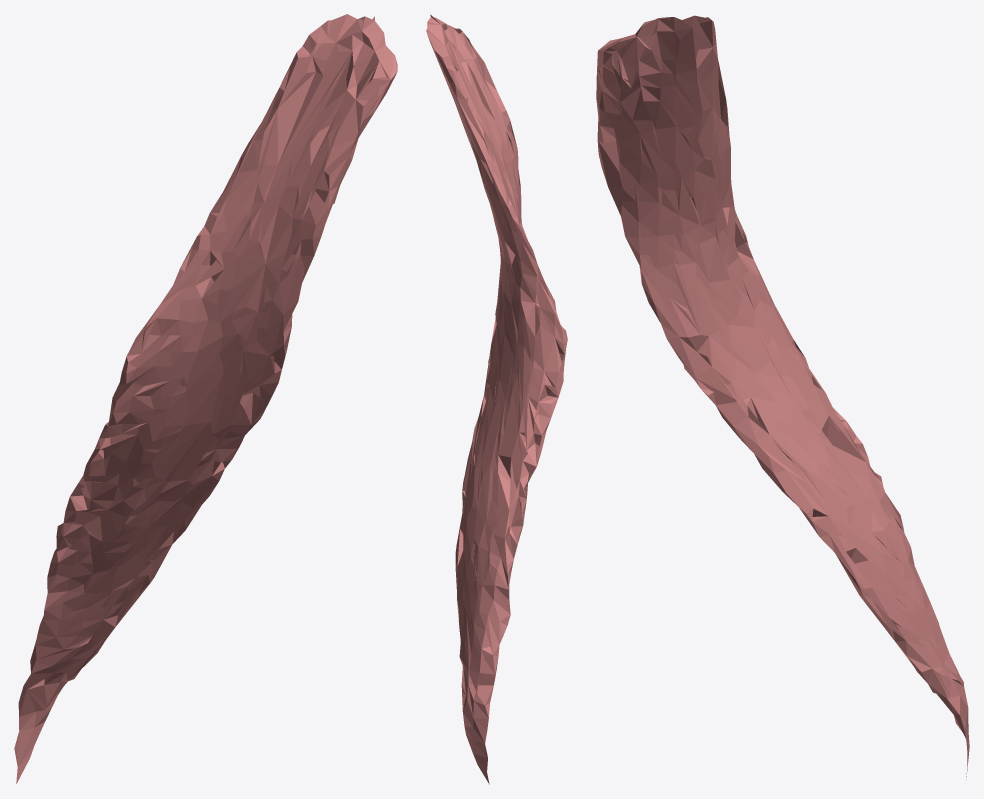
Rendered from Splenius_capitis_muscle.l.glb.
3 renders of one model, left to right at view 1: azimuth 30°, elevation 25°; view 2: azimuth 150°, elevation 25°; view 3: azimuth 270°, elevation 25°, orthographic. The views are drawn at different scales.
Parts seen in each view (by area): view 1: Splenius_capitis_muscle.l; view 2: Splenius_capitis_muscle.l; view 3: Splenius_capitis_muscle.l.
Boxes of the visible parts, box(x1,y1,x2,y2) form: Splenius_capitis_muscle.l: box(14, 14, 397, 783); Splenius_capitis_muscle.l: box(426, 14, 567, 784); Splenius_capitis_muscle.l: box(596, 15, 969, 777).
Bounding box in the file's own units: 0.0596 × 0.214 × 0.0818.
